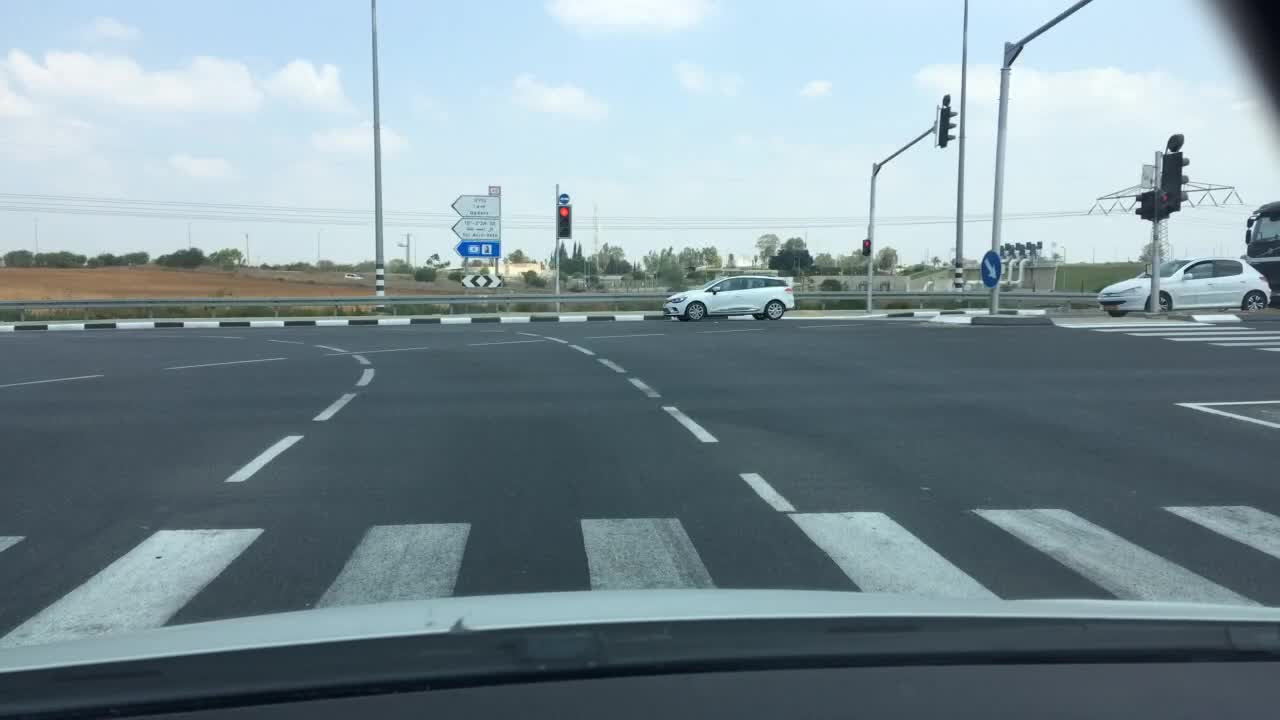car: (1098, 257, 1271, 317), (660, 271, 796, 326), (342, 271, 364, 282)
traffic light: (1165, 149, 1190, 213), (1130, 189, 1157, 219), (942, 96, 957, 145), (557, 205, 573, 242), (859, 238, 872, 256)
traffic sign: (454, 194, 499, 214), (455, 218, 500, 237), (981, 253, 1003, 284), (456, 242, 502, 255), (1166, 133, 1186, 151), (557, 191, 569, 204)
truck: (1244, 200, 1278, 310)
